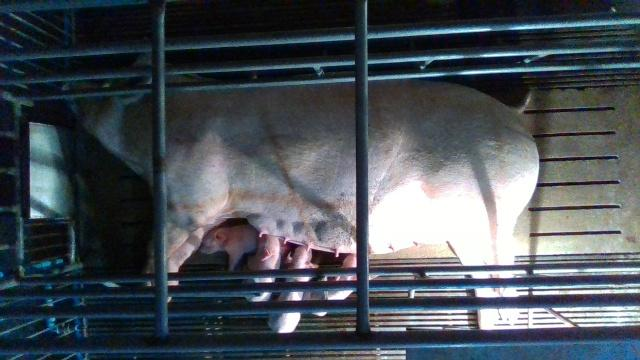piglet: (305, 252, 376, 317), (268, 245, 319, 334), (200, 225, 291, 271), (242, 234, 281, 302)
sow-sleep-lactate: (63, 55, 540, 329)
